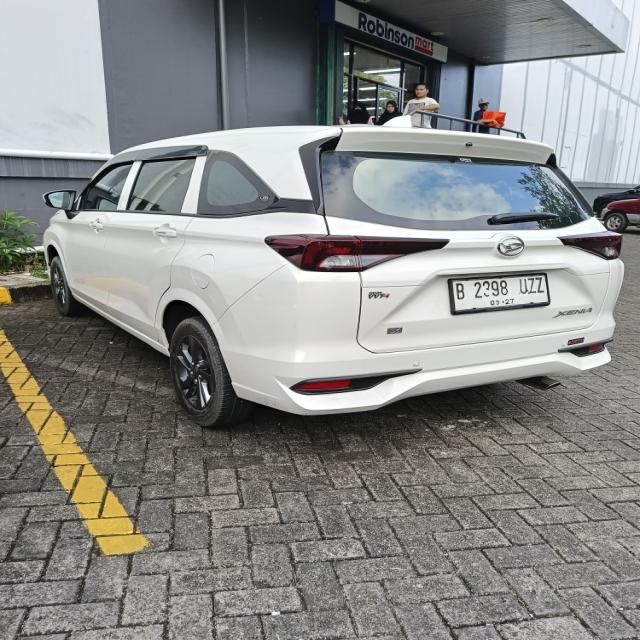plates: (454, 268, 552, 314)
